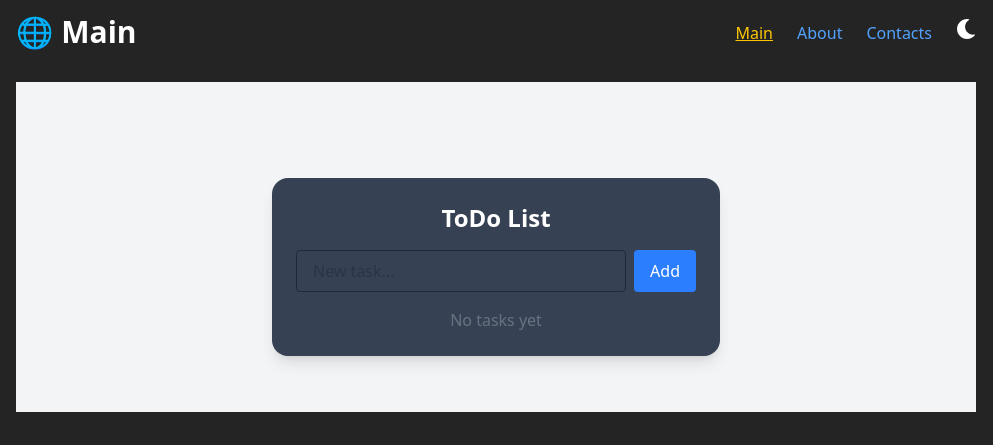
Test: TodoList › should delete a todo item when the "Delete" button is clicked
The width and height of the screenshot is (993, 445).
Type "Task 1" into the field with placeholder "New task...". click: (461, 271)
box: [296,250,626,292]
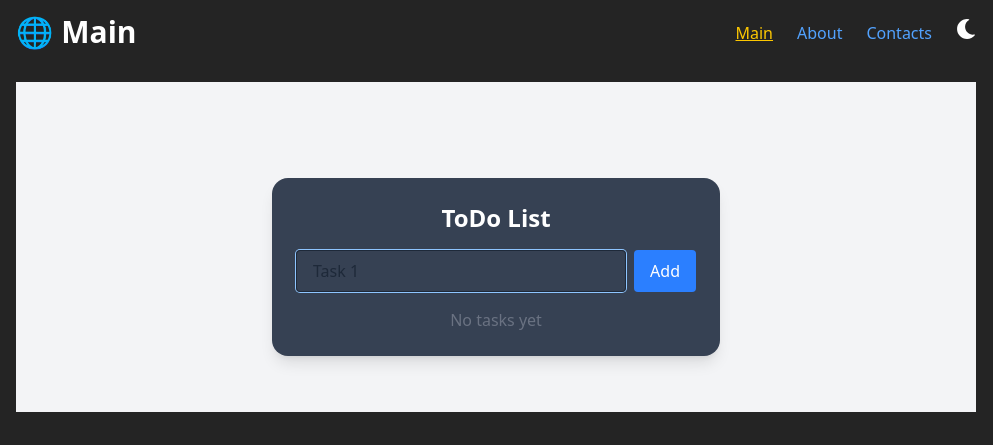
Click the button "Add". click: (665, 271)
box: [634,250,696,292]
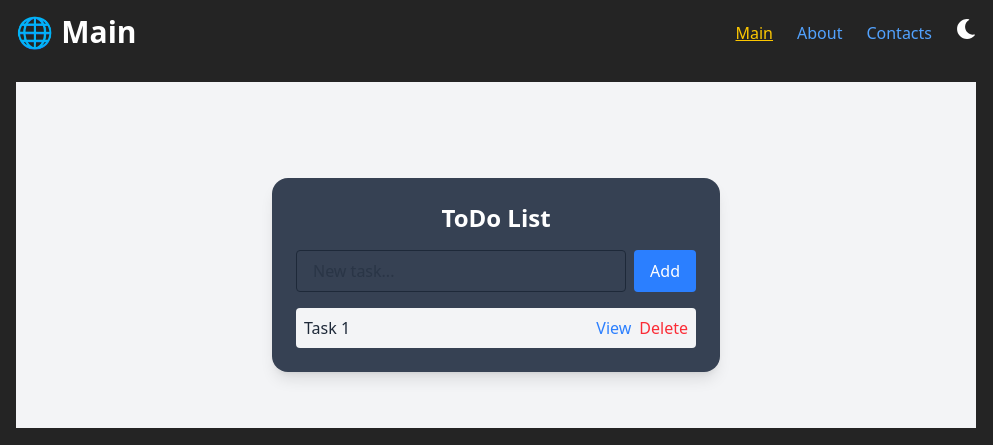
Click the button "Delete". click: (664, 328)
box: [639,316,688,340]
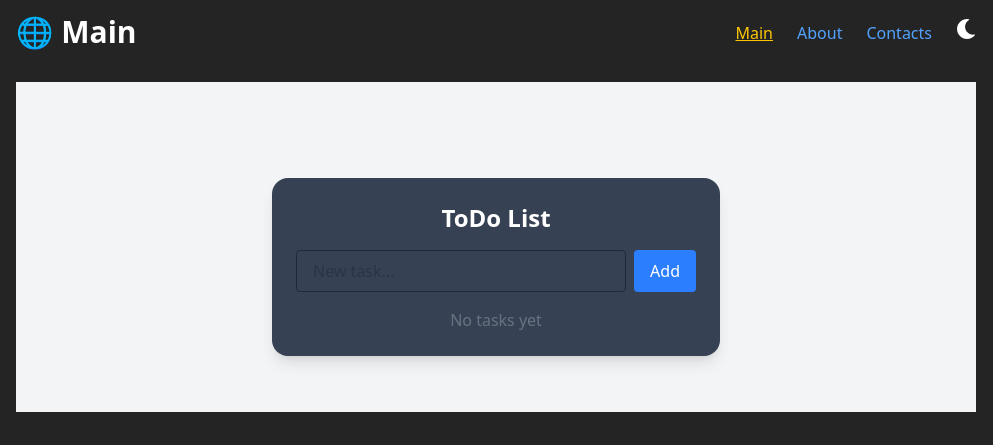
Now the text "Task 1" is gone
